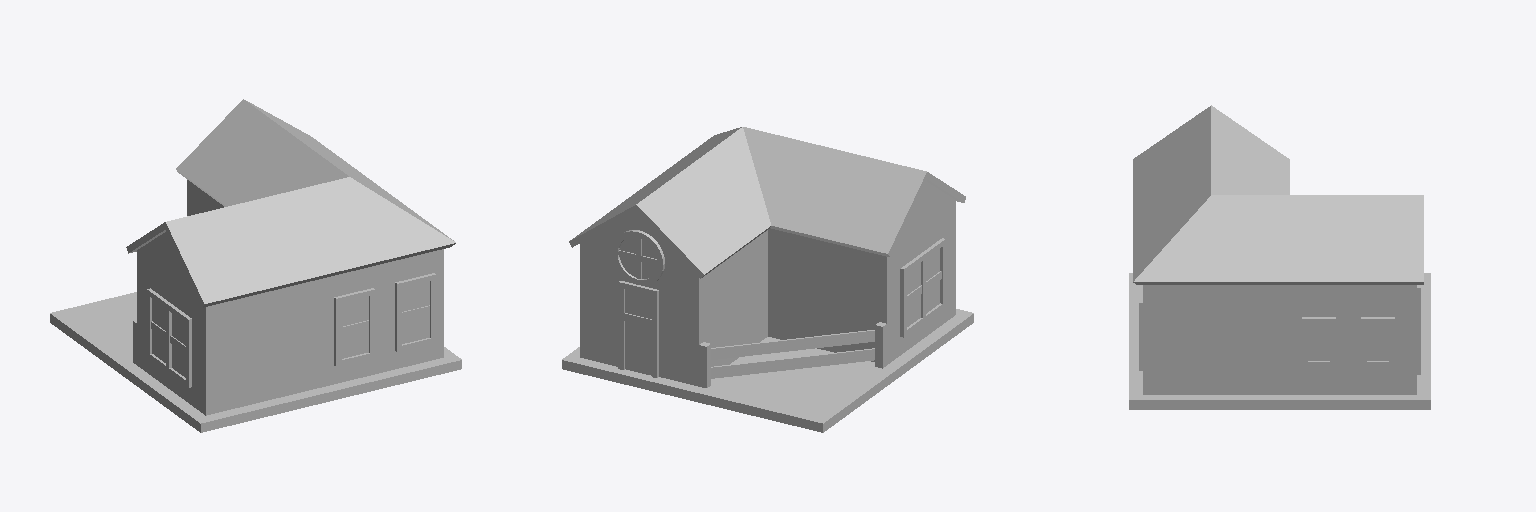
The model's file is Level5.obj.
3 views of the same model, side by side, from view 1: azimuth 30°, elevation 25°; view 2: azimuth 150°, elevation 25°; view 3: azimuth 270°, elevation 25° (orthographic).
Parts seen in each view (by area): view 1: roof_23, block_half_15, roof_corner_21, roof_22, window_double_27, roof_flat_largeCenter_7, block_half_13, roof_flat_largeCenter_8, block_half_14, window_wide_26, block_half_16, block_half_17 (+2 smaller); view 2: roof_23, block_half_17, roof_22, roof_flat_largeCenter_7, block_half_10, fence_woodSide_34, block_half_19, block_half_12, roof_corner_21, door_11, window_wide_26, window_round_detail_24 (+3 smaller); view 3: roof_corner_21, block_half_13, roof_22, roof_23, block_half_12, block_half_10, window_detail_double_28, roof_flat_largeCenter_9, roof_flat_largeCenter_6, block_half_14, roof_flat_largeCenter_7, roof_flat_largeCenter_8.
Boxes of the visible parts, <box> form: roof_23: <box>126,192,333,307</box>; block_half_15: <box>171,276,324,414</box>; roof_corner_21: <box>282,153,455,275</box>; roof_22: <box>176,99,380,206</box>; window_double_27: <box>334,273,435,366</box>; roof_flat_largeCenter_7: <box>50,292,136,376</box>; block_half_13: <box>384,249,443,371</box>; roof_flat_largeCenter_8: <box>125,366,331,432</box>; block_half_14: <box>325,264,395,386</box>; window_wide_26: <box>147,288,191,387</box>; block_half_16: <box>137,252,264,415</box>; block_half_17: <box>137,251,170,389</box>; roof_23: <box>766,140,965,256</box>; block_half_17: <box>768,226,920,364</box>; roof_22: <box>569,149,770,278</box>; roof_flat_largeCenter_7: <box>692,337,898,432</box>; block_half_10: <box>603,248,733,386</box>; fence_woodSide_34: <box>699,322,886,387</box>; block_half_19: <box>645,230,767,385</box>; block_half_12: <box>580,243,630,366</box>; roof_corner_21: <box>647,127,800,204</box>; door_11: <box>618,281,658,377</box>; window_wide_26: <box>900,238,945,337</box>; window_round_detail_24: <box>612,230,664,285</box>; roof_corner_21: <box>1133,166,1279,284</box>; block_half_13: <box>1143,285,1279,394</box>; roof_22: <box>1274,195,1423,284</box>; roof_23: <box>1133,105,1289,222</box>; block_half_12: <box>1280,285,1416,394</box>; block_half_10: <box>1349,285,1416,394</box>; window_detail_double_28: <box>1302,317,1394,366</box>; roof_flat_largeCenter_9: <box>1129,336,1279,409</box>; roof_flat_largeCenter_6: <box>1280,336,1430,409</box>; block_half_14: <box>1143,285,1210,394</box>; roof_flat_largeCenter_7: <box>1421,273,1430,335</box>; roof_flat_largeCenter_8: <box>1129,273,1138,335</box>.
Bounding box in the file's own units: 2.2 × 1.44 × 2.2.